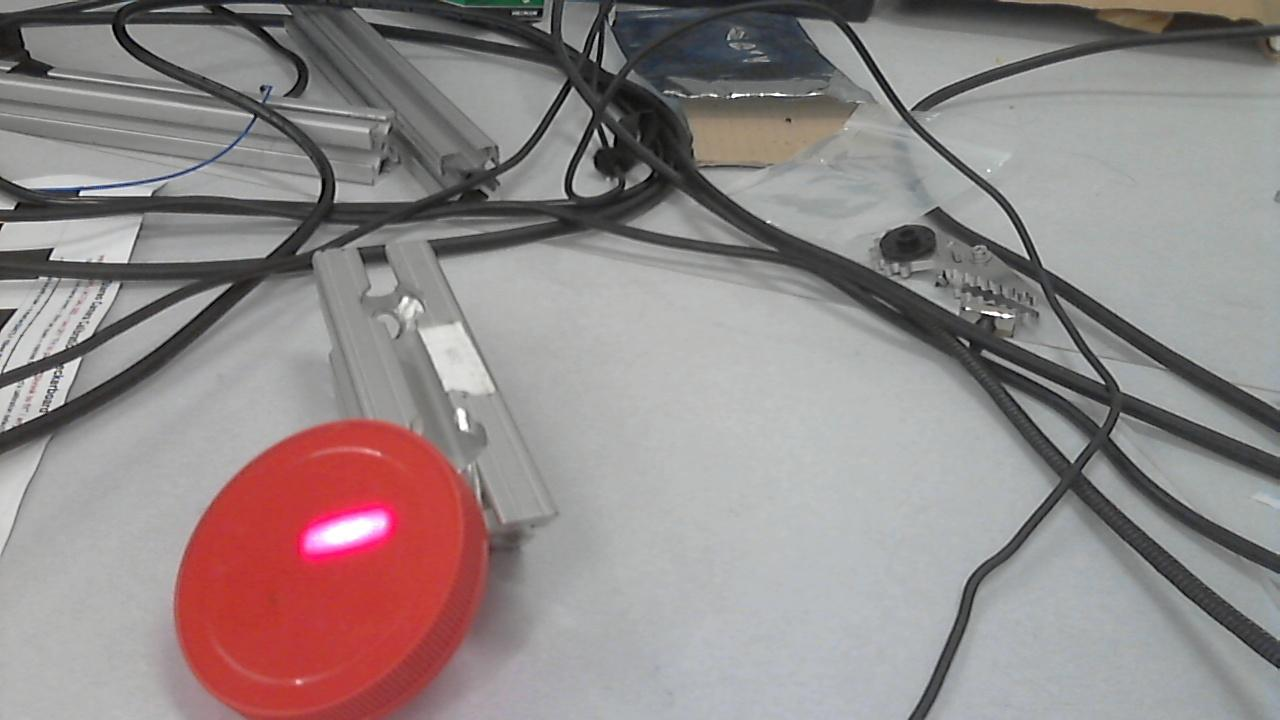Object plastic container lid - Material plastic - Color red - Pdfname ZC63DBkv6o: (253, 492, 429, 584)
